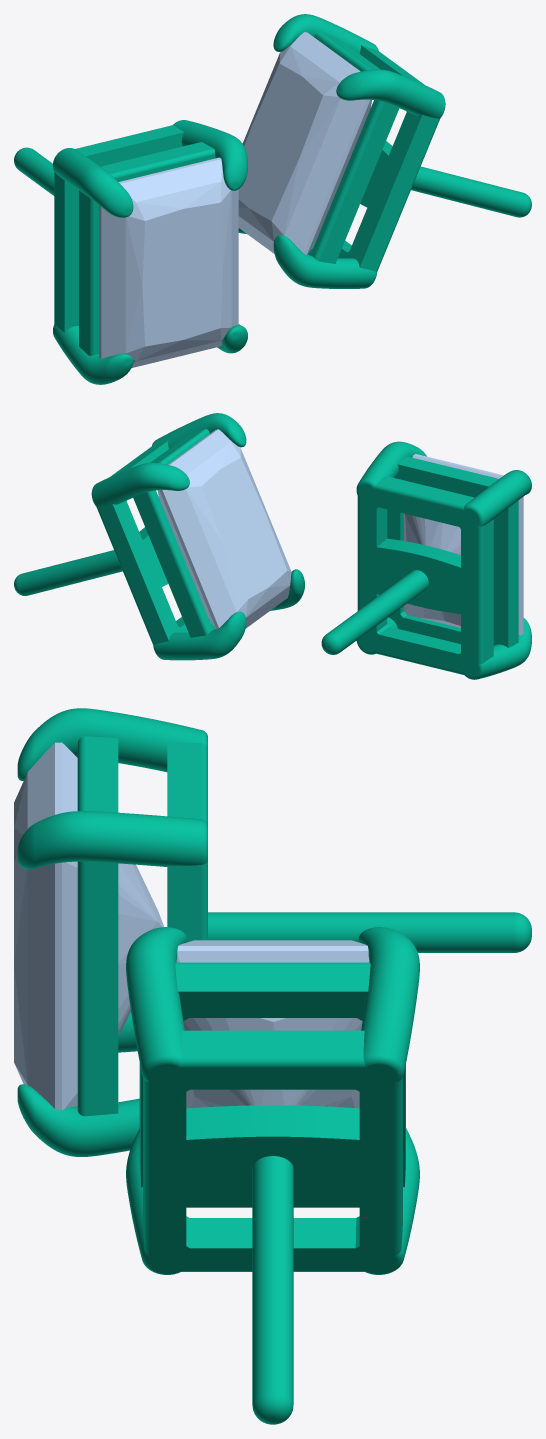
3 views of the same model, one above another, from view 1: azimuth 30°, elevation 25°; view 2: azimuth 150°, elevation 25°; view 3: azimuth 270°, elevation 25° (orthographic). The views are drawn at different scales.
Visible parts, largest first — view 1: Diamond_Radiant (×2), Bezel (×4), Head Prong (×7), VEAR704 03.3dm; view 2: Bezel (×4), Diamond_Radiant (×2), Head Prong (×8), VEAR704 03.3dm; view 3: Bezel (×4), Head Prong (×7), VEAR704 03.3dm, Diamond_Radiant (×2).
Boxes of the visible parts, x1,y1,x2,y2 form: Diamond_Radiant (×2): (99, 32, 371, 367); Bezel (×4): (54, 31, 439, 355); Head Prong (×7): (53, 14, 445, 384); VEAR704 03.3dm: (14, 141, 531, 217); Bezel (×4): (96, 429, 518, 674); Diamond_Radiant (×2): (157, 429, 523, 635); Head Prong (×8): (91, 413, 531, 679); VEAR704 03.3dm: (14, 527, 466, 654); Bezel (×4): (77, 736, 405, 1271); Head Prong (×7): (17, 708, 419, 1274); VEAR704 03.3dm: (174, 912, 531, 1424); Diamond_Radiant (×2): (14, 742, 369, 1110).
Bounding box in the file's own units: 3.29 × 1.37 × 1.82.
